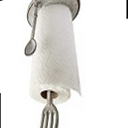Fork: (33, 88, 63, 128)
